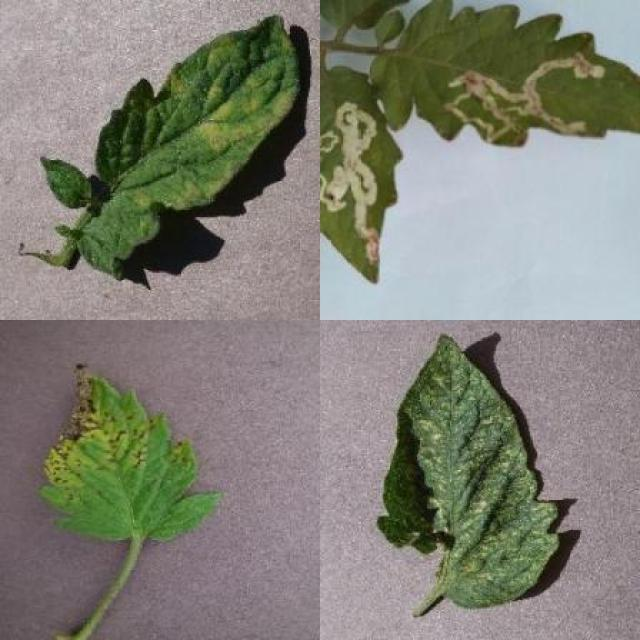Leaf Miner: (380, 0, 640, 147), (320, 64, 403, 285)
Leaf Mold: (45, 12, 299, 281)
Septoria: (41, 362, 223, 547)
Spider Mites: (376, 333, 563, 610)
